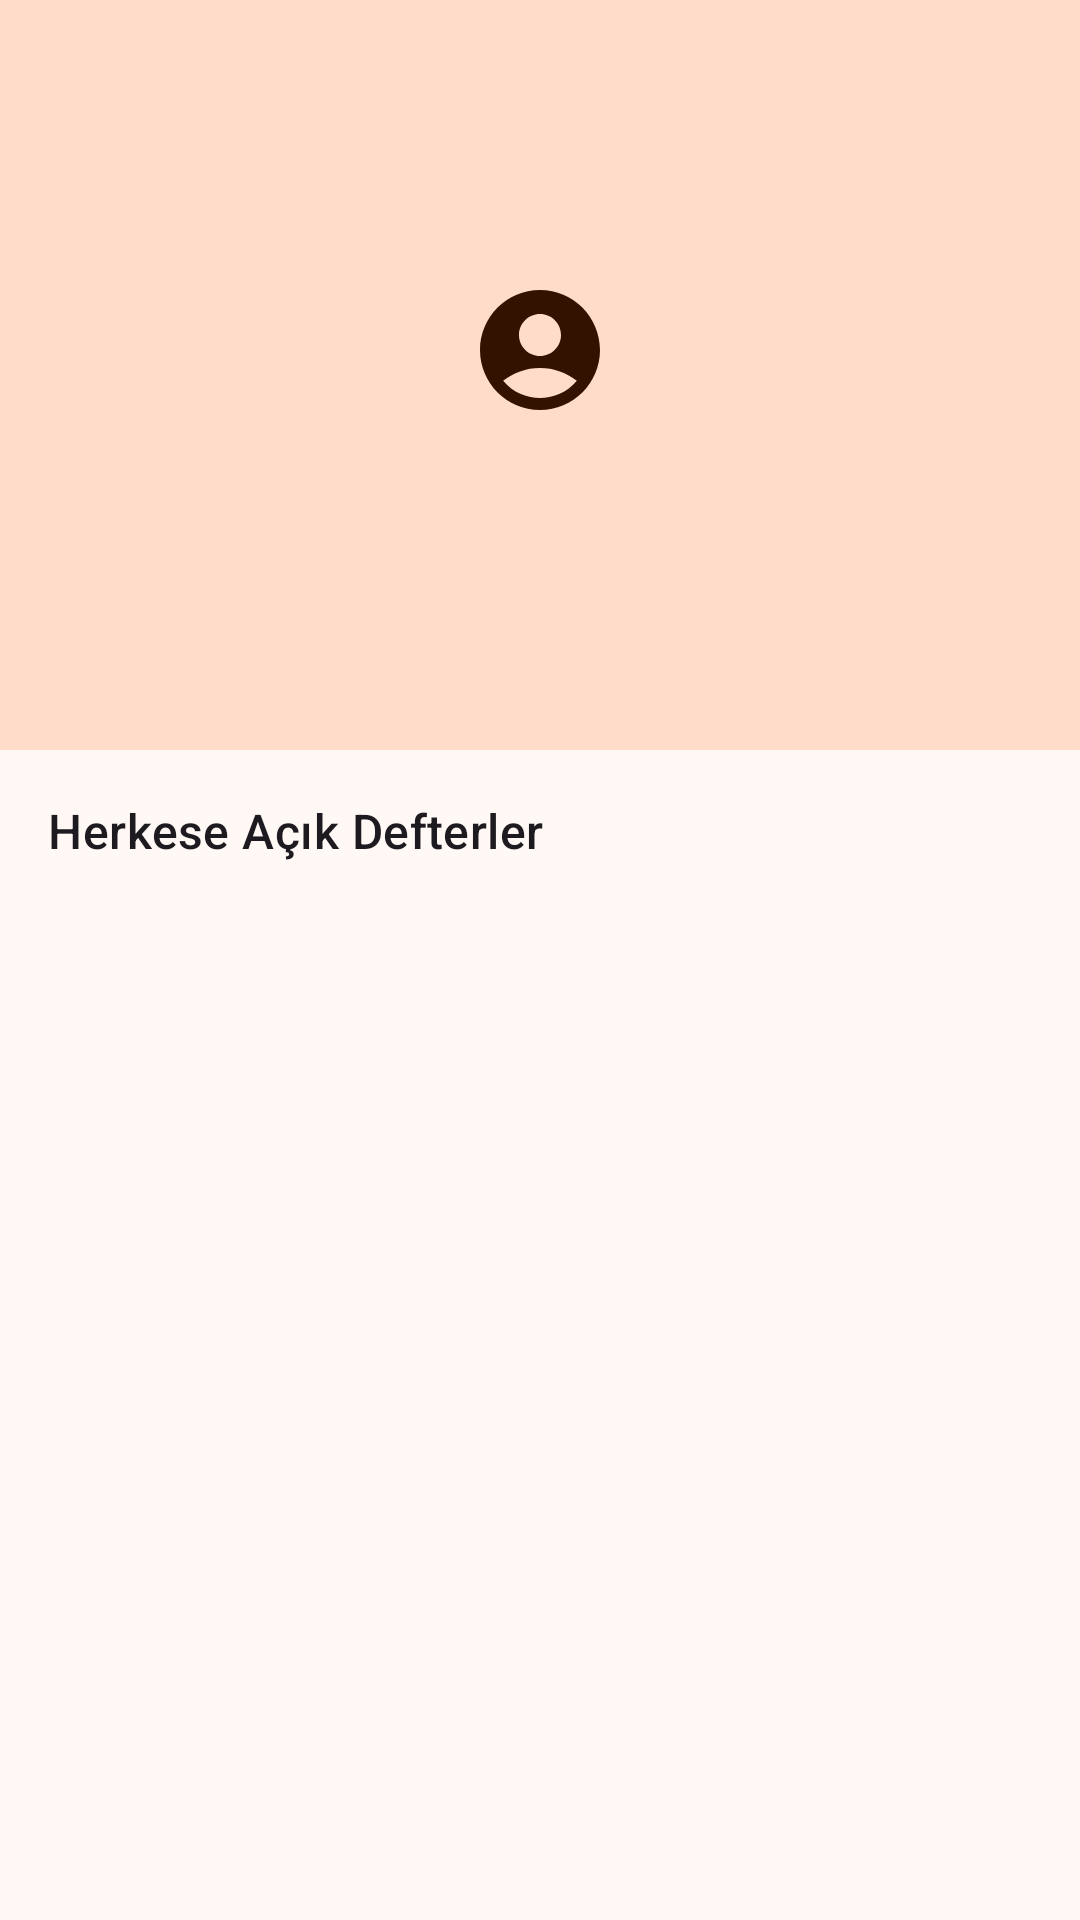

Icon bounding boxes for this 1080px x 1920px phone screenshot, format (x1, y1, x2, y2):
profile: (480, 290, 600, 410)
